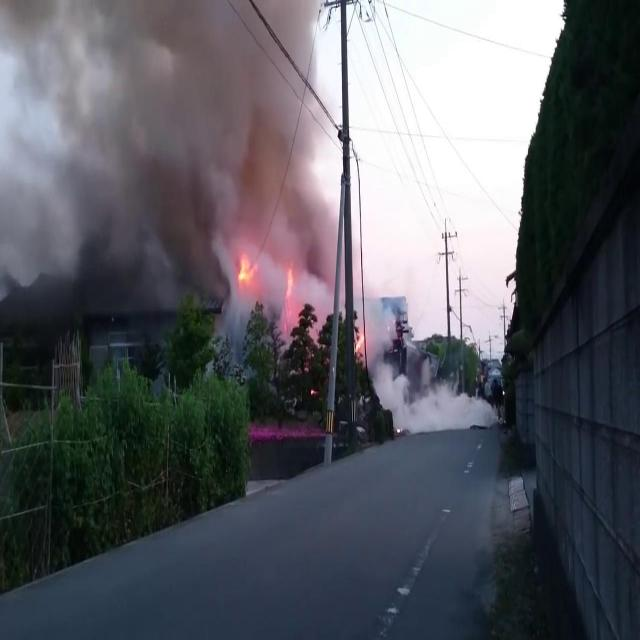Fire: (239, 255, 254, 278), (354, 333, 367, 351), (286, 260, 294, 282)
